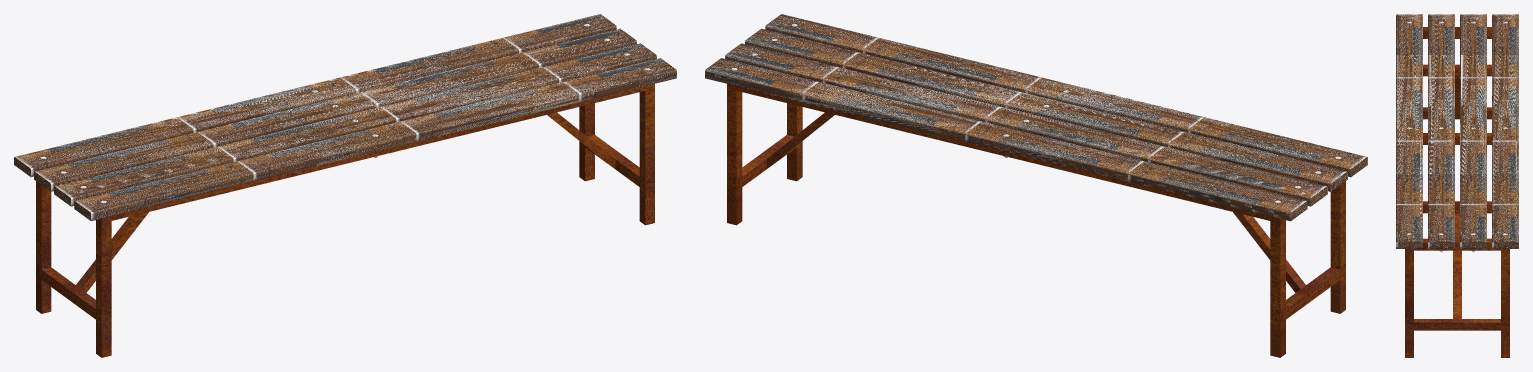
3 views of the same model, side by side, from view 1: azimuth 30°, elevation 25°; view 2: azimuth 150°, elevation 25°; view 3: azimuth 270°, elevation 25° (orthographic). The views are drawn at different scales.
Visible parts, largest first — view 1: mesh2_mesh2-geometry, mesh1_mesh1-geometry, mesh3_mesh3-geometry, mesh4_mesh4-geometry, mesh5_mesh5-geometry; view 2: mesh5_mesh5-geometry, mesh1_mesh1-geometry, mesh4_mesh4-geometry, mesh2_mesh2-geometry, mesh3_mesh3-geometry; view 3: mesh3_mesh3-geometry, mesh4_mesh4-geometry, mesh2_mesh2-geometry, mesh5_mesh5-geometry, mesh1_mesh1-geometry.
Boxes of the visible parts, bbox=[...] form: mesh2_mesh2-geometry: bbox=[74, 58, 676, 221]; mesh1_mesh1-geometry: bbox=[36, 84, 654, 357]; mesh3_mesh3-geometry: bbox=[54, 43, 656, 206]; mesh4_mesh4-geometry: bbox=[34, 28, 636, 191]; mesh5_mesh5-geometry: bbox=[14, 14, 616, 177]; mesh5_mesh5-geometry: bbox=[705, 58, 1307, 221]; mesh1_mesh1-geometry: bbox=[727, 84, 1345, 357]; mesh4_mesh4-geometry: bbox=[725, 43, 1327, 206]; mesh2_mesh2-geometry: bbox=[765, 14, 1367, 177]; mesh3_mesh3-geometry: bbox=[745, 28, 1347, 191]; mesh3_mesh3-geometry: bbox=[1428, 14, 1454, 251]; mesh4_mesh4-geometry: bbox=[1460, 14, 1486, 251]; mesh2_mesh2-geometry: bbox=[1396, 14, 1422, 248]; mesh5_mesh5-geometry: bbox=[1492, 14, 1518, 248]; mesh1_mesh1-geometry: bbox=[1405, 27, 1509, 357].
Bounding box in the file's own units: 0.9473 × 0.2368 × 0.2158.
